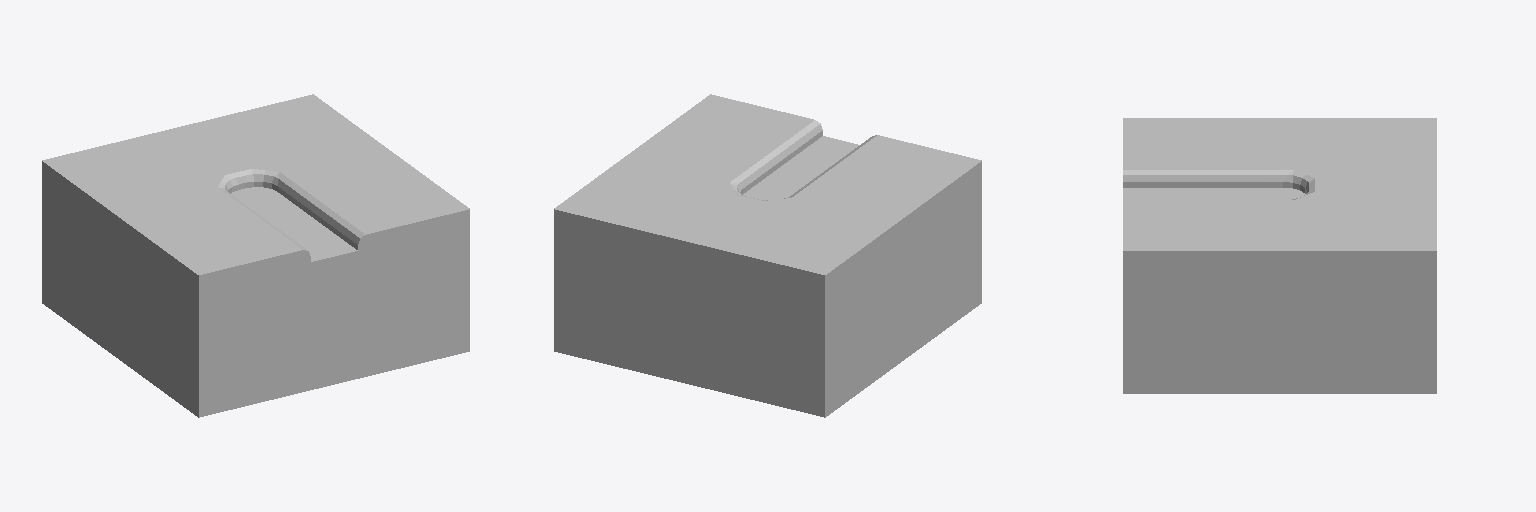
Rendered from square_forest_roadA.obj.
3 renders of one model, left to right at view 1: azimuth 30°, elevation 25°; view 2: azimuth 150°, elevation 25°; view 3: azimuth 270°, elevation 25°, orthographic.
Visible parts, largest first — view 1: square_forest_roadA_Cube.319; view 2: square_forest_roadA_Cube.319; view 3: square_forest_roadA_Cube.319.
Part boxes in pixels (x1,y1,x2,y2): square_forest_roadA_Cube.319: (42, 94, 469, 417); square_forest_roadA_Cube.319: (554, 94, 981, 417); square_forest_roadA_Cube.319: (1123, 118, 1436, 393).
Bounding box in the file's own units: 2 × 1 × 2.